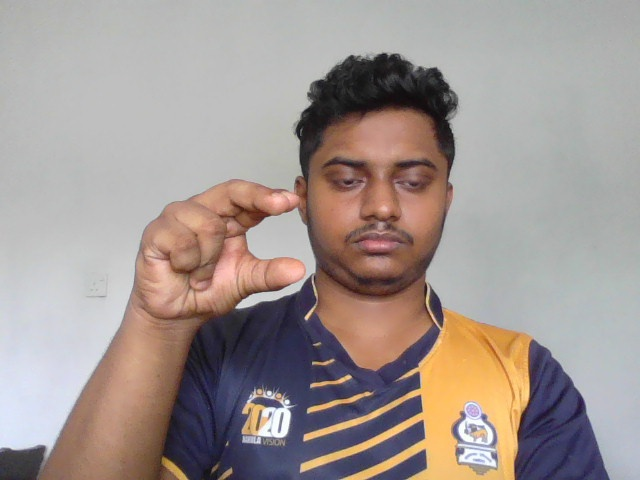No: (131, 177, 305, 321)
